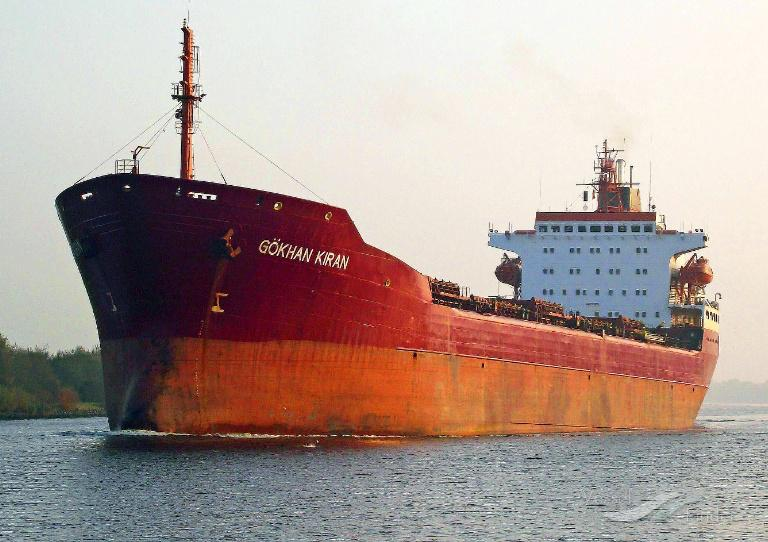OCR: (257, 231, 355, 283)
